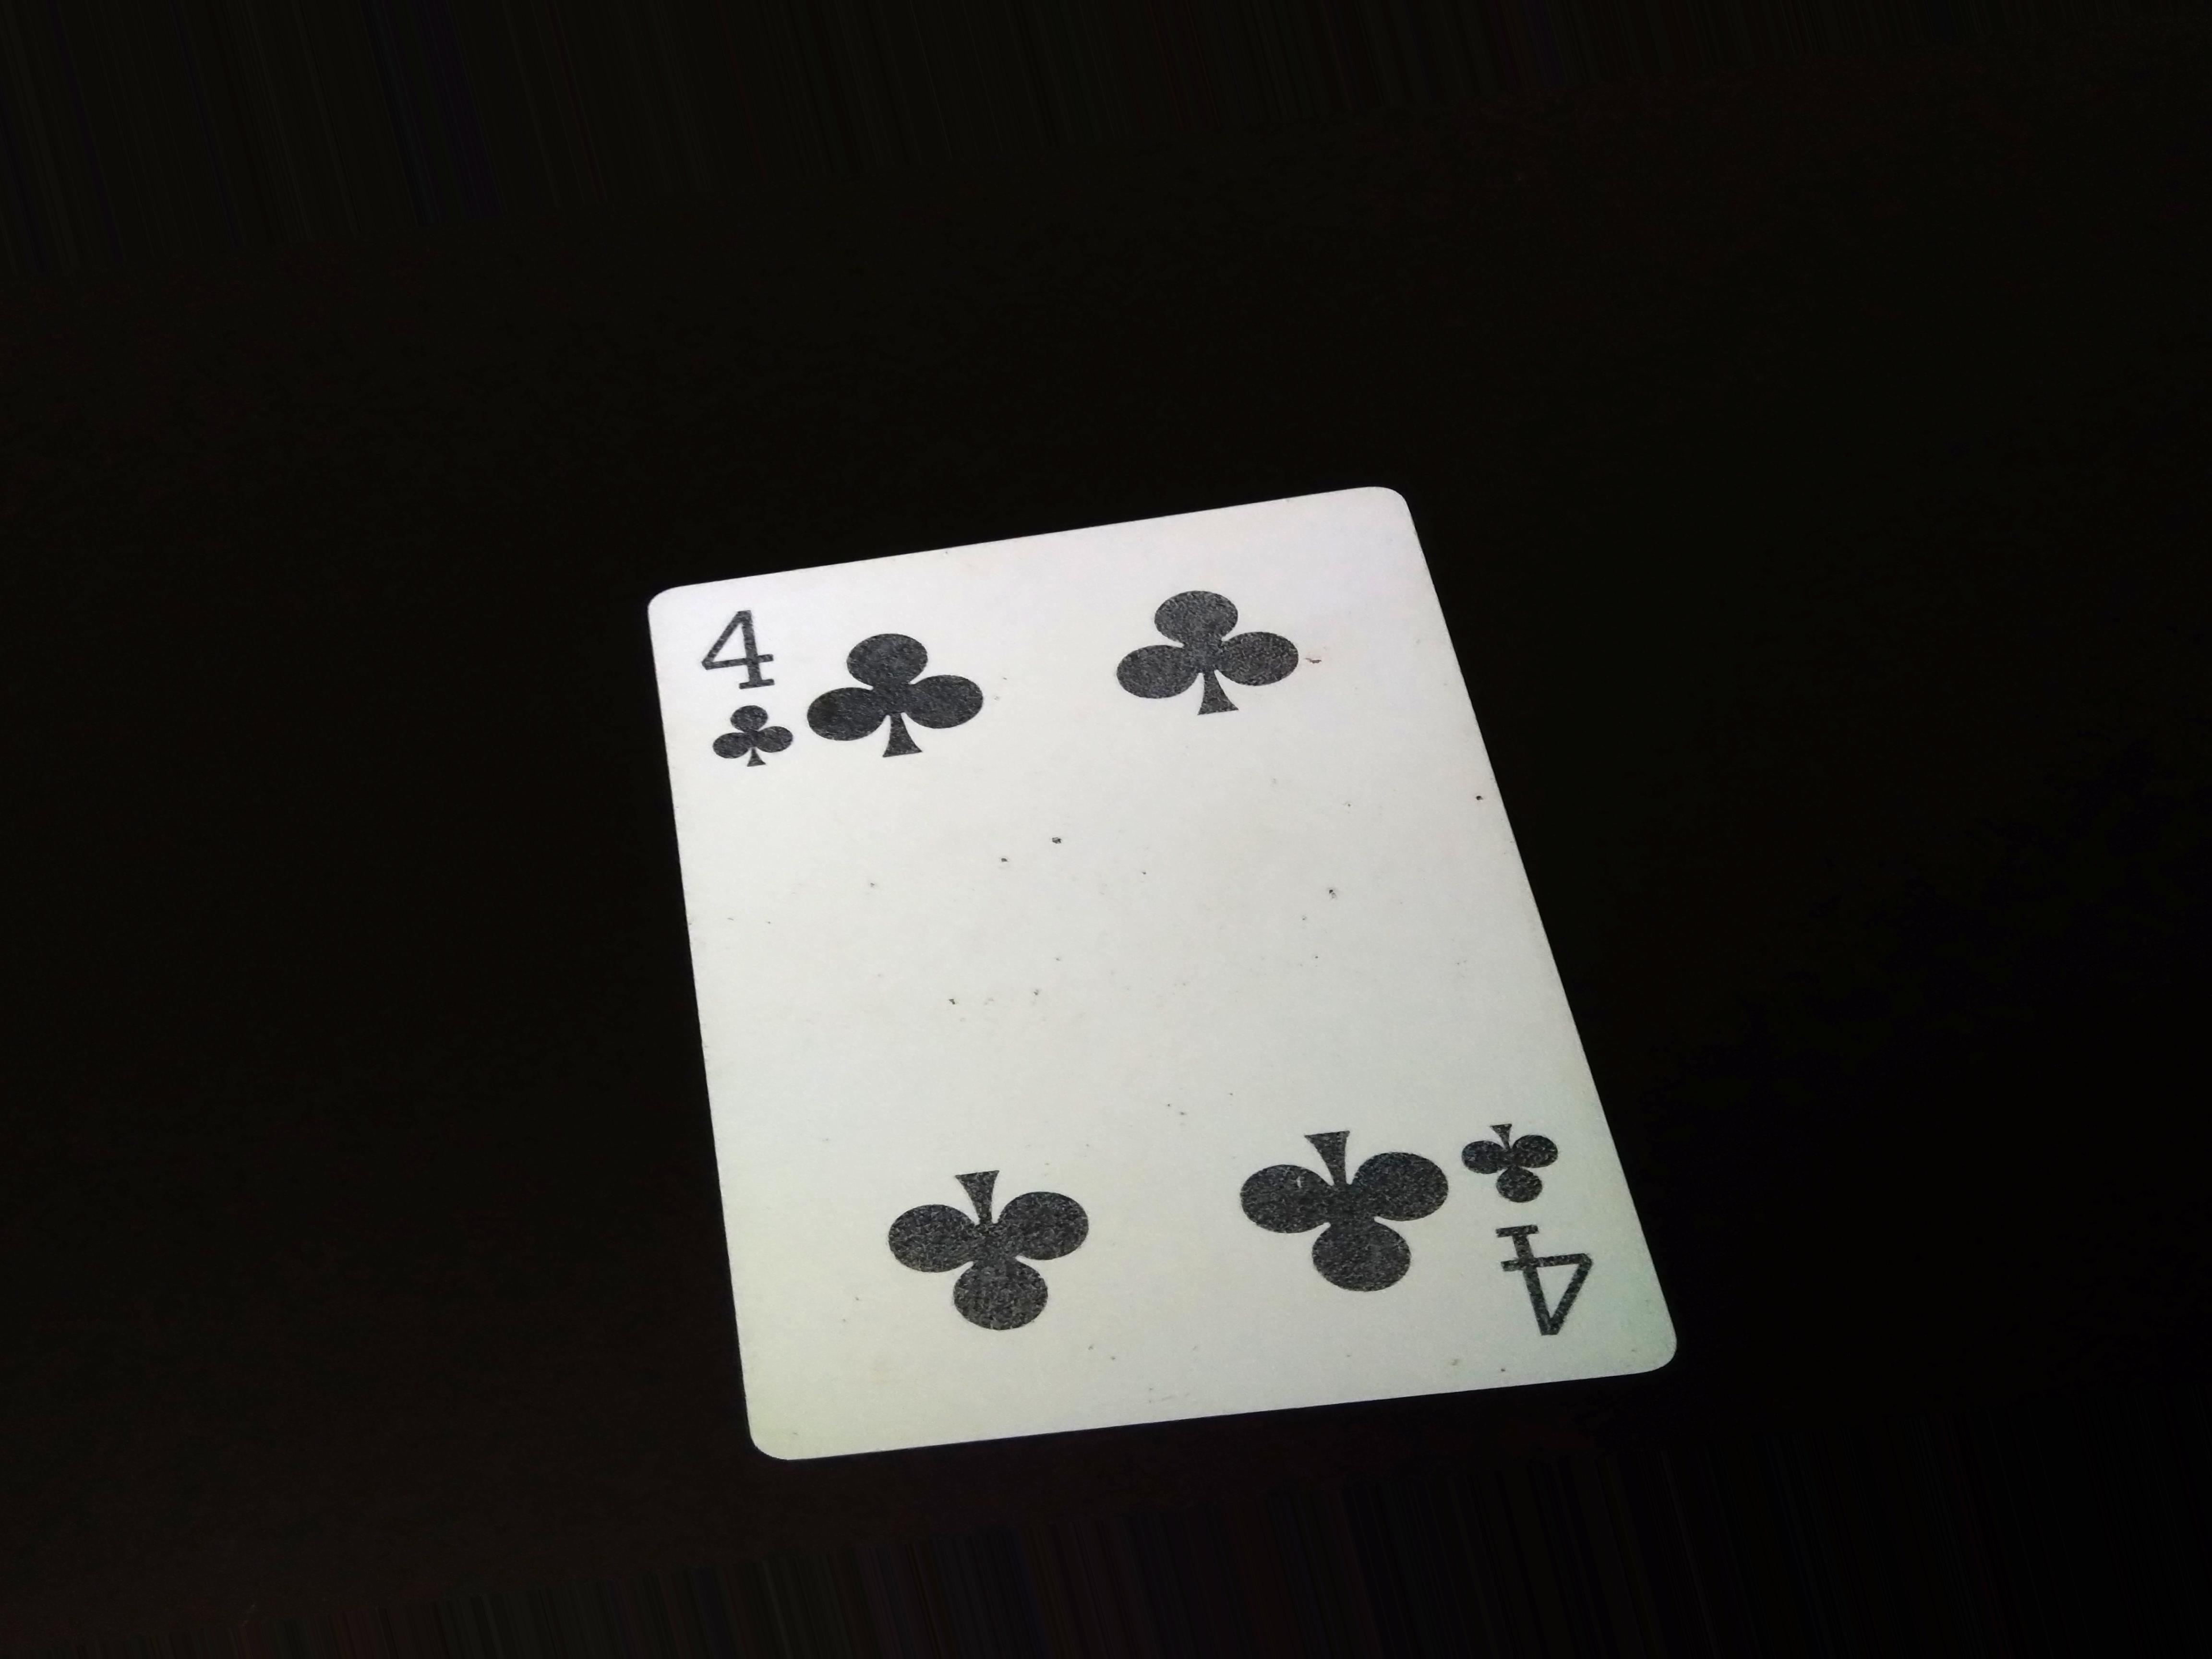4C: (691, 596, 799, 800)
